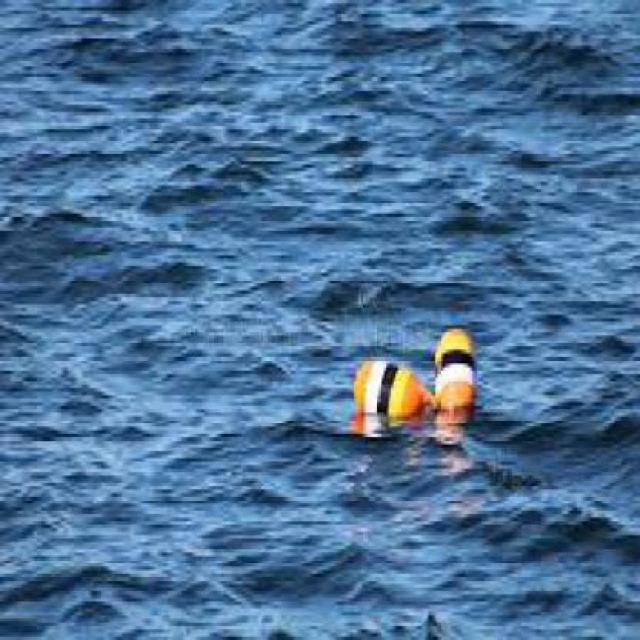buoy: (350, 337, 427, 445), (437, 284, 491, 435)
